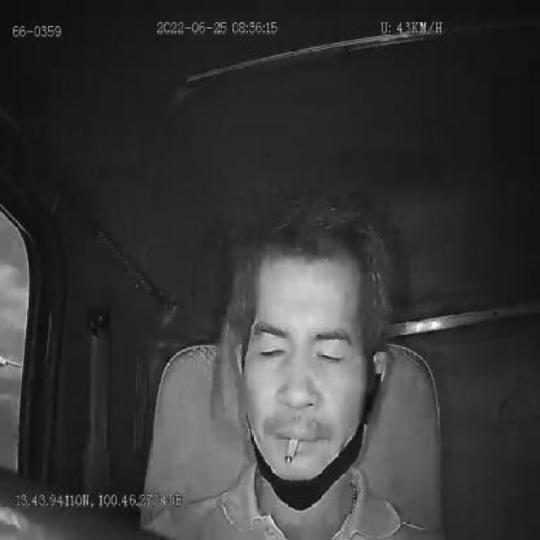smoking: (282, 436, 301, 465)
